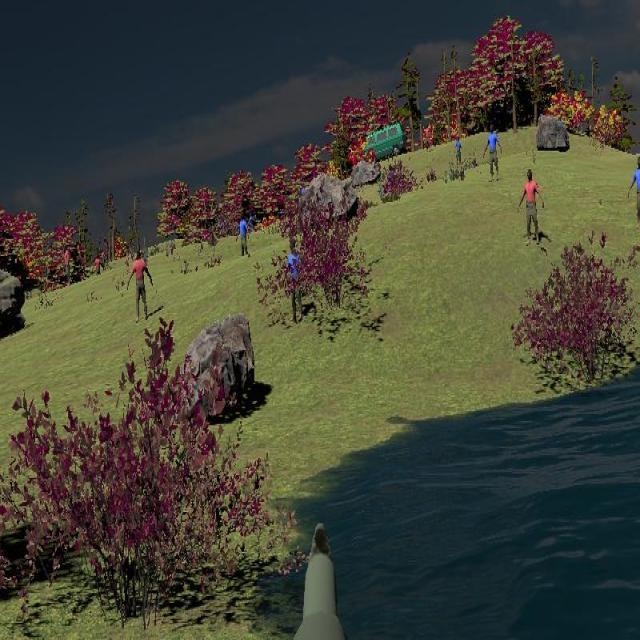Human: (519, 169, 545, 244), (128, 249, 154, 321), (484, 123, 503, 183), (628, 158, 640, 230), (236, 212, 249, 261)
car: (364, 122, 405, 161)
